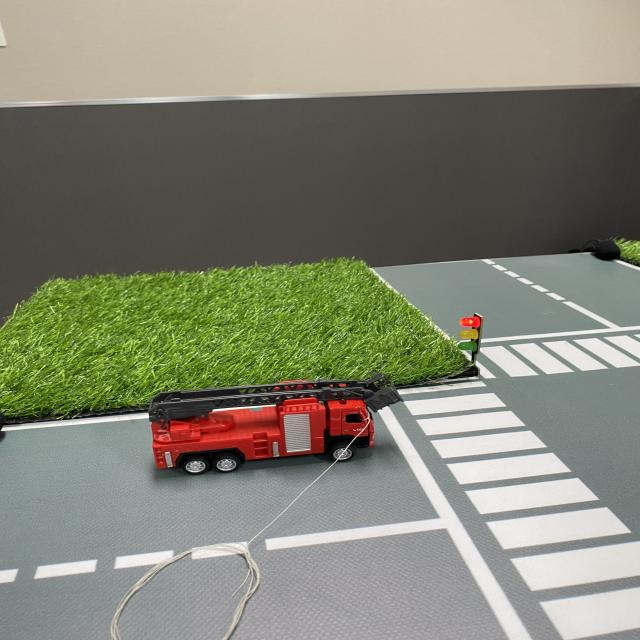Fire Truck: (144, 369, 408, 478)
